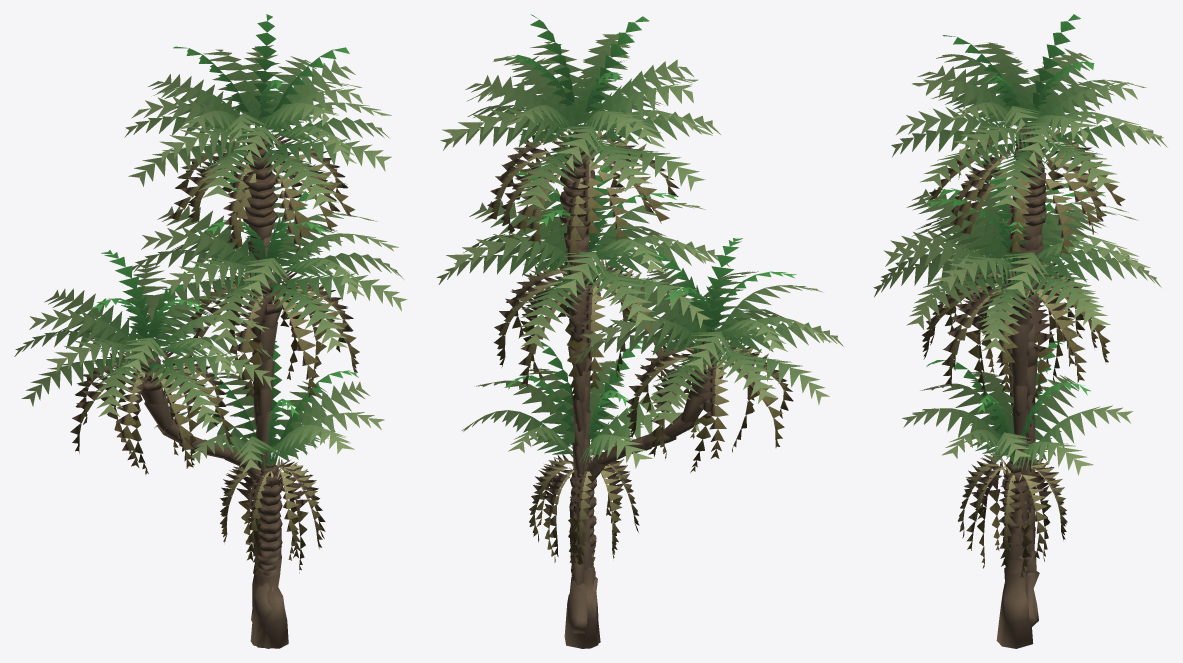
File: palm.glb
3 views of the same model, side by side, from view 1: azimuth 30°, elevation 25°; view 2: azimuth 150°, elevation 25°; view 3: azimuth 270°, elevation 25° (orthographic). The views are drawn at different scales.
Visible parts, largest first — view 1: lod0 (×4); view 2: lod0 (×4); view 3: lod0 (×4).
Boxes of the visible parts, left/top/right/bottom form: lod0 (×4): left=14, top=14, right=407, bottom=648; lod0 (×4): left=436, top=14, right=843, bottom=648; lod0 (×4): left=873, top=14, right=1167, bottom=648.
Size of what is drawn, in the model's own units: 7.71 by 12 by 5.41.
1 material, 1 textured.
